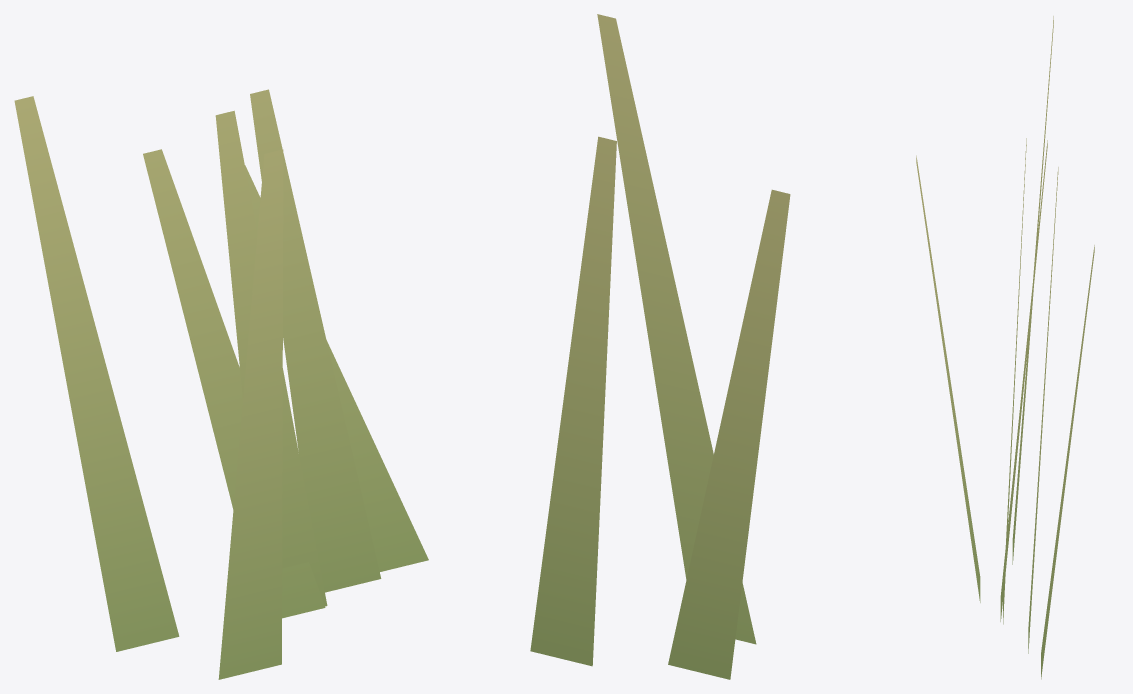
Rendered from dunegrass_1.glb.
3 views of the same model, side by side, from view 1: azimuth 30°, elevation 25°; view 2: azimuth 150°, elevation 25°; view 3: azimuth 270°, elevation 25° (orthographic). The views are drawn at different scales.
Visible parts, largest first — view 1: Dunegrass.001; view 2: Dunegrass.001; view 3: Dunegrass.001.
Part boxes in pixels (bbox=[...]): Dunegrass.001: bbox=[14, 89, 428, 679]; Dunegrass.001: bbox=[530, 14, 790, 679]; Dunegrass.001: bbox=[916, 16, 1094, 679].
Bounding box in the file's own units: 0.6438 × 0.8531 × 0.3243.
